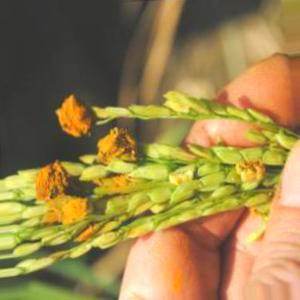Leaf_Scald: (37, 165, 88, 217), (53, 100, 86, 137), (102, 132, 139, 162), (232, 162, 267, 187), (83, 226, 95, 244)
